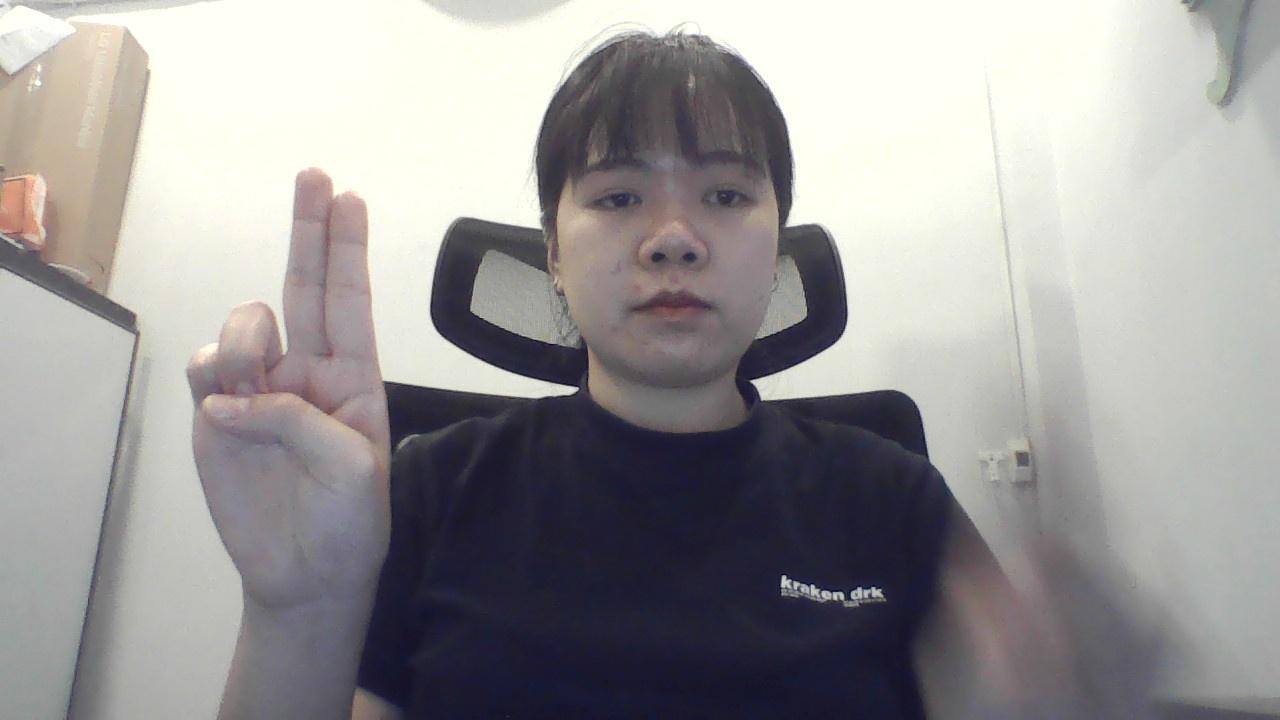U: (162, 151, 403, 646)
